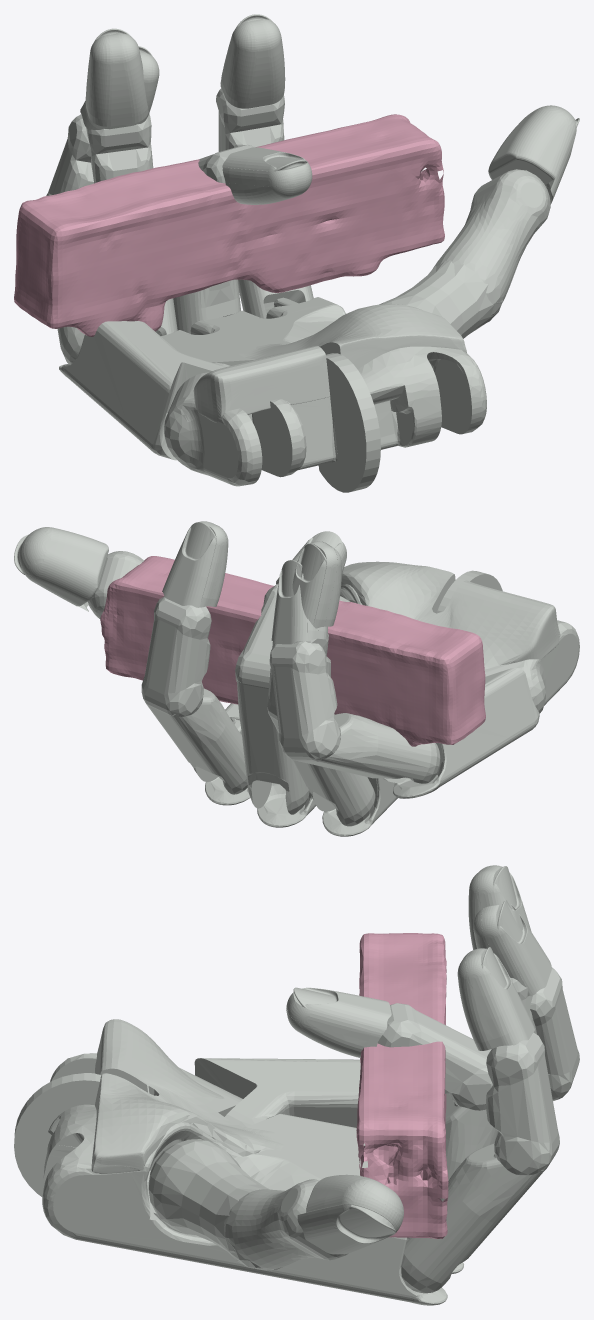
3 views of the same model, one above another, from view 1: azimuth 30°, elevation 25°; view 2: azimuth 150°, elevation 25°; view 3: azimuth 270°, elevation 25° (orthographic). The views are drawn at different scales.
Visible parts, largest first — view 1: hand, world; view 2: hand, world; view 3: hand, world.
Part boxes in pixels (x1,y1,x2,y2): hand: (46, 14, 579, 492); world: (14, 114, 444, 336); hand: (14, 521, 579, 836); world: (100, 556, 485, 746); hand: (14, 865, 579, 1305); world: (356, 933, 448, 1239).
Size of the model in its own units: 0.1724 by 0.1092 by 0.153.
